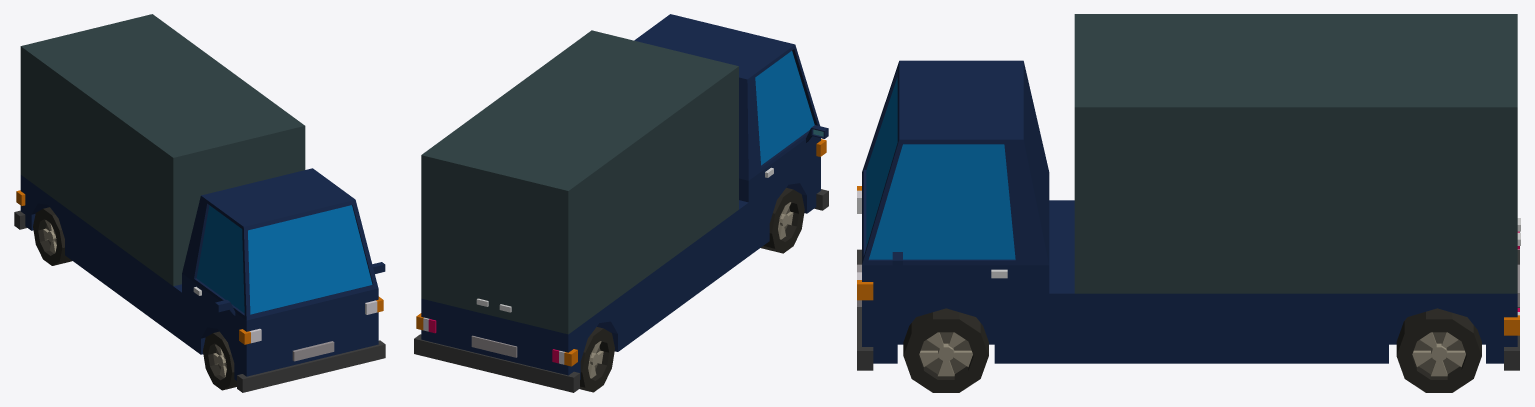
Rendered from car_2.fbx.
3 renders of one model, left to right at view 1: azimuth 30°, elevation 25°; view 2: azimuth 150°, elevation 25°; view 3: azimuth 270°, elevation 25°, orthographic. The views are drawn at different scales.
Parts seen in each view (by area): view 1: car_2; view 2: car_2; view 3: car_2.
Part boxes in pixels (<box>): car_2: <box>14,14,385,392</box>; car_2: <box>414,14,828,392</box>; car_2: <box>857,14,1520,392</box>.
Bounding box in the file's own units: 253 × 285 × 601.
